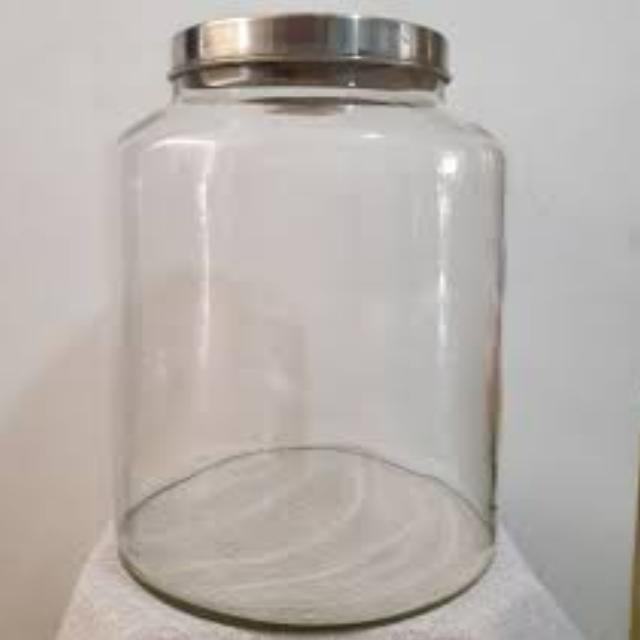ToplesKaca: (112, 9, 508, 633)
